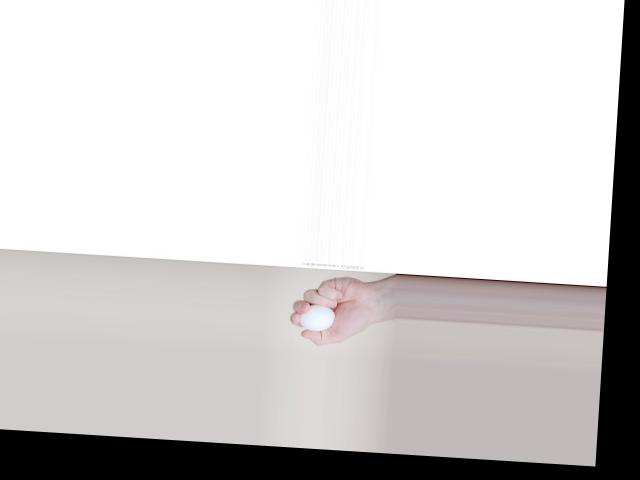egg: (299, 304, 336, 332)
